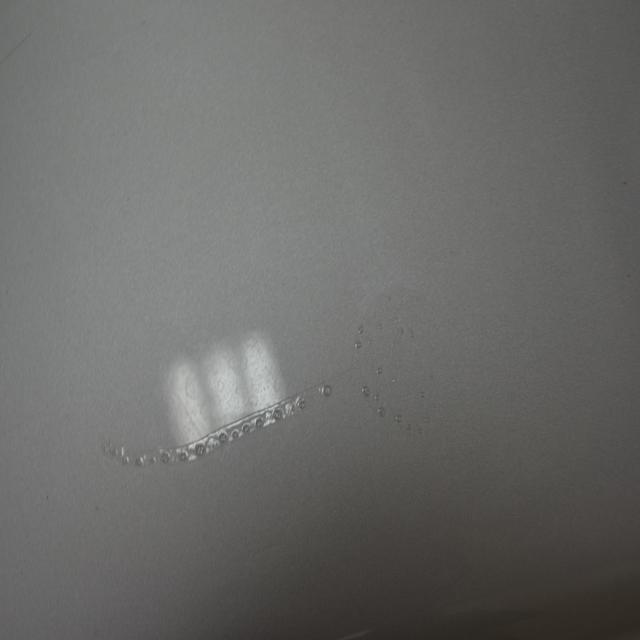runs: (95, 284, 438, 476)
